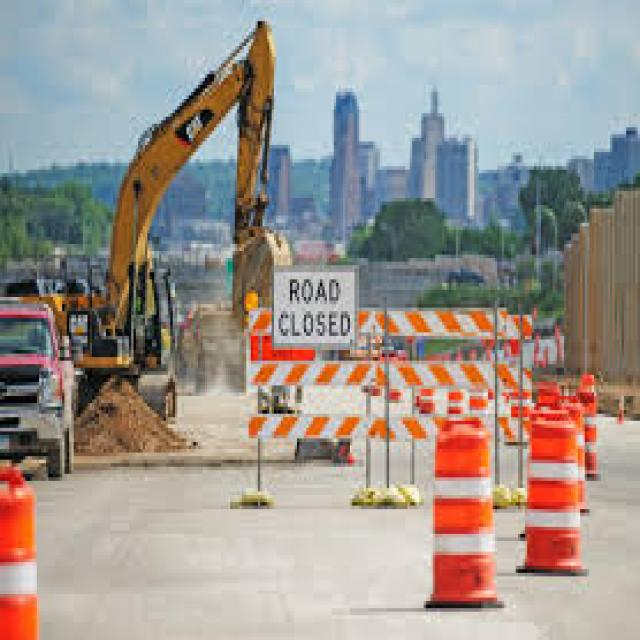cone: (616, 392, 625, 424)
